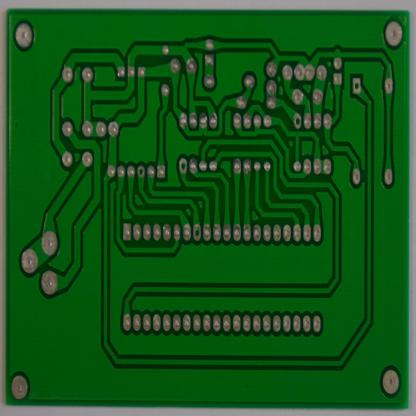missing_hole: (177, 155, 189, 175), (291, 111, 303, 130), (192, 223, 203, 242), (351, 77, 362, 95), (136, 164, 146, 179)
